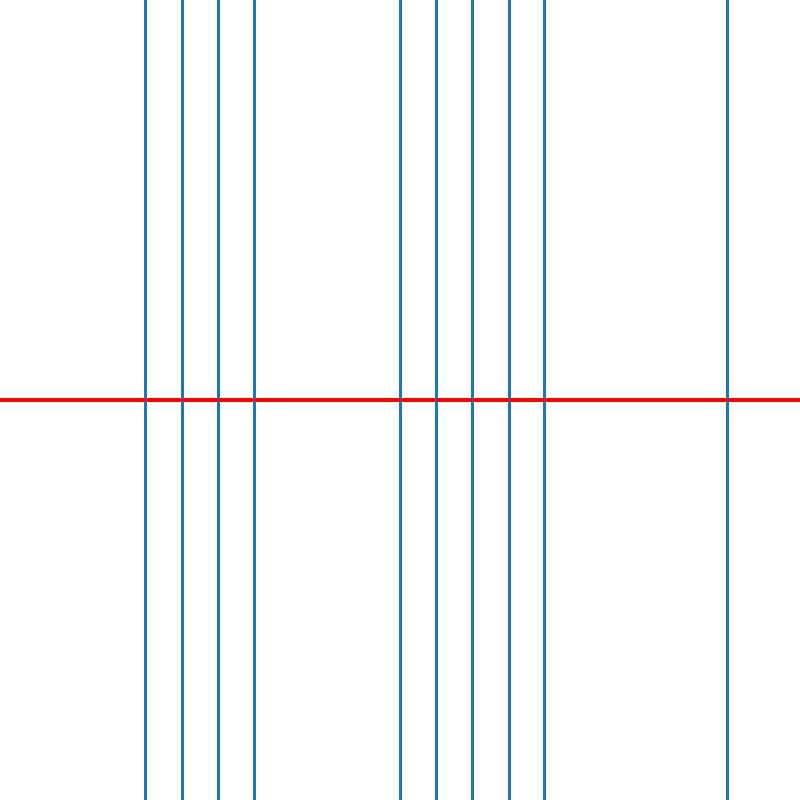root: (141, 396, 149, 404), (432, 396, 440, 404), (541, 396, 549, 404), (250, 396, 258, 404), (723, 396, 730, 404), (178, 396, 185, 404), (505, 396, 512, 404), (396, 396, 403, 404), (214, 396, 221, 404), (469, 396, 476, 404)
